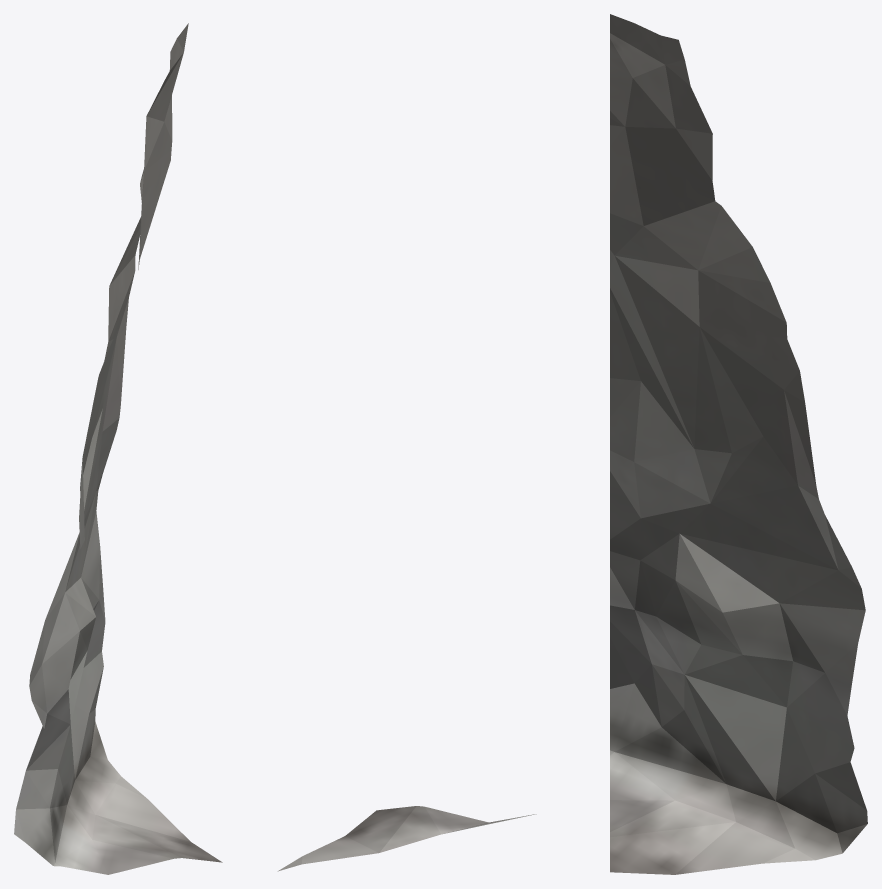
The picture shows the model from 3 angles, left to right: view 1: azimuth 30°, elevation 25°; view 2: azimuth 150°, elevation 25°; view 3: azimuth 270°, elevation 25°; orthographic projection. The views are drawn at different scales.
Bounding box in the file's own units: 0.0894 × 0.3381 × 0.0946.
1 material, 1 textured.
